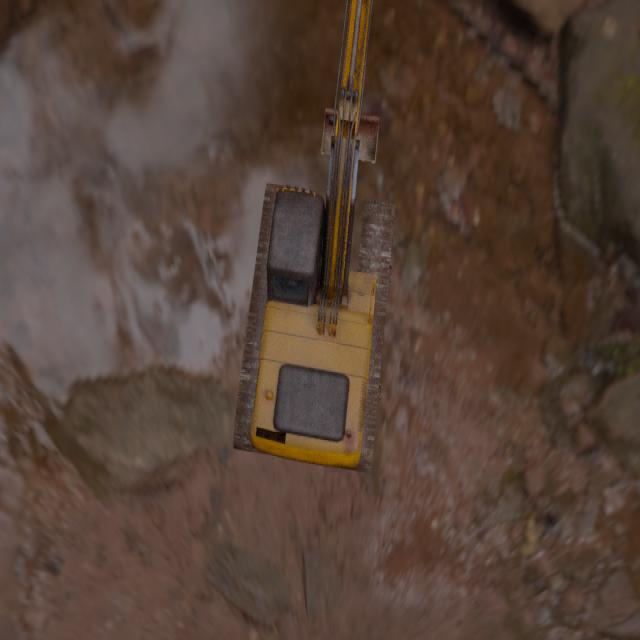excavator: (232, 0, 395, 475)
